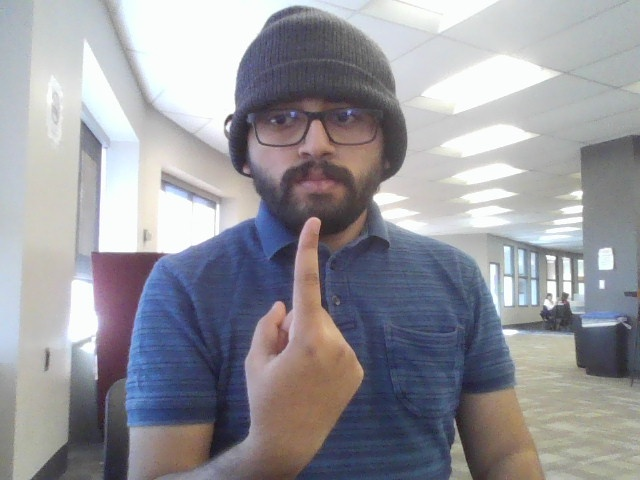one: (234, 209, 370, 460)
